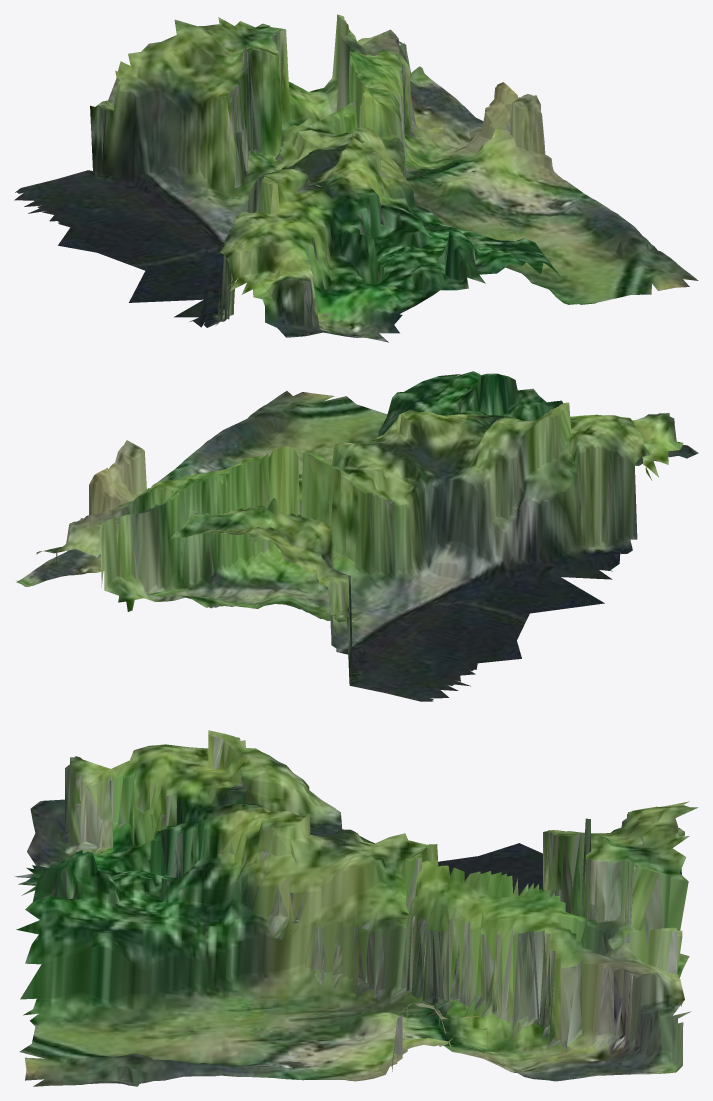
Rendered from Tile_003_001_L14_32411.glb.
3 views of the same model, one above another, from view 1: azimuth 30°, elevation 25°; view 2: azimuth 150°, elevation 25°; view 3: azimuth 270°, elevation 25° (orthographic). The views are drawn at different scales.
Parts seen in each view (by area): view 1: rtc; view 2: rtc; view 3: rtc.
Boxes of the visible parts, x1,y1,x2,y2 form: rtc: [14, 14, 698, 342]; rtc: [16, 371, 698, 701]; rtc: [15, 730, 698, 1086].
Bounding box in the file's own units: 57.29 × 17.35 × 64.67.
1 material, 1 textured.
